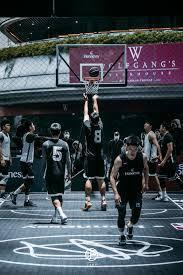ball: (88, 66, 99, 78)
human: (110, 134, 150, 246), (40, 121, 74, 226), (82, 92, 108, 212), (10, 119, 41, 208), (142, 121, 163, 201), (156, 121, 176, 201), (0, 118, 11, 201)
rim: (82, 76, 101, 94)
